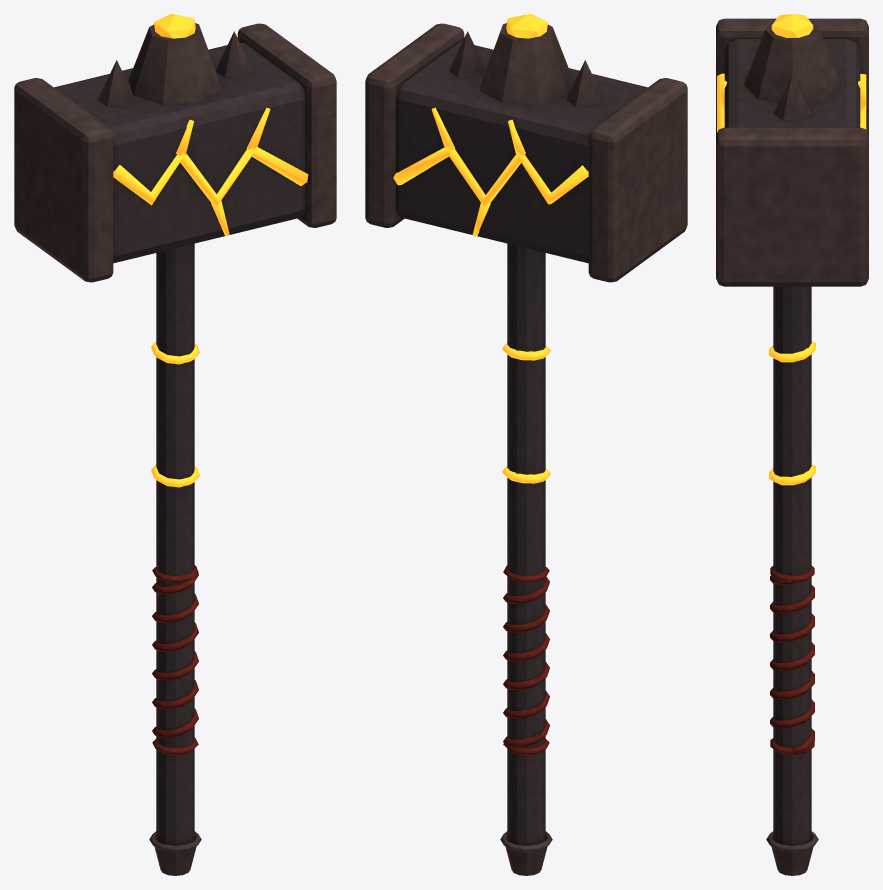
File: 06_volcano_heavy.fbx
3 renders of one model, left to right at view 1: azimuth 30°, elevation 25°; view 2: azimuth 150°, elevation 25°; view 3: azimuth 270°, elevation 25°, orthographic.
Visible parts, largest first — view 1: Weapon; view 2: Weapon; view 3: Weapon.
Part boxes in pixels (box(x1,y1,x2,y2)): Weapon: box(14, 14, 336, 875); Weapon: box(365, 14, 687, 875); Weapon: box(716, 14, 868, 875).
Bounding box in the file's own units: 43.3 × 140 × 22.66.
2 materials, 1 textured.
